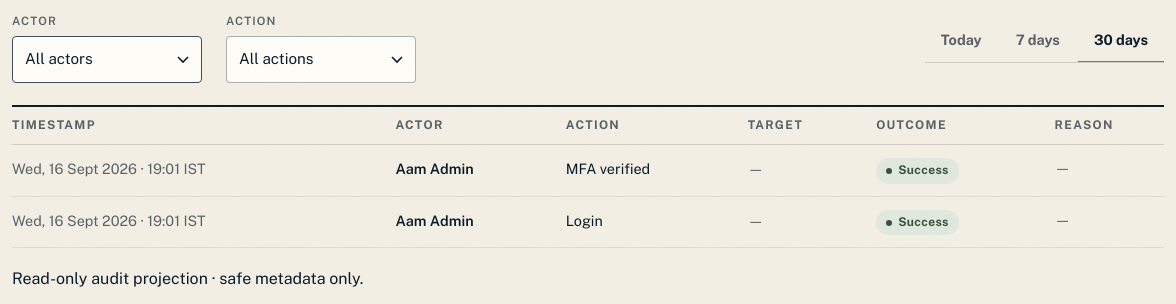
it: AuditExplorer filters › filters rows down to the selected action
This screenshot has width=1176, height=304.
Select "MFA verified" in the dropdown labelled "Action" at (321, 60), box [226,36,416,83]
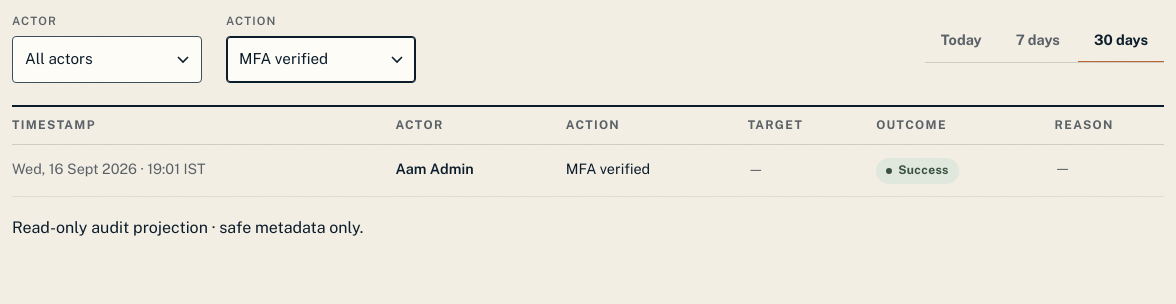
Expected: the text "MFA verified" is shown, [566,145,748,196]
Now the text "Login" is gone
